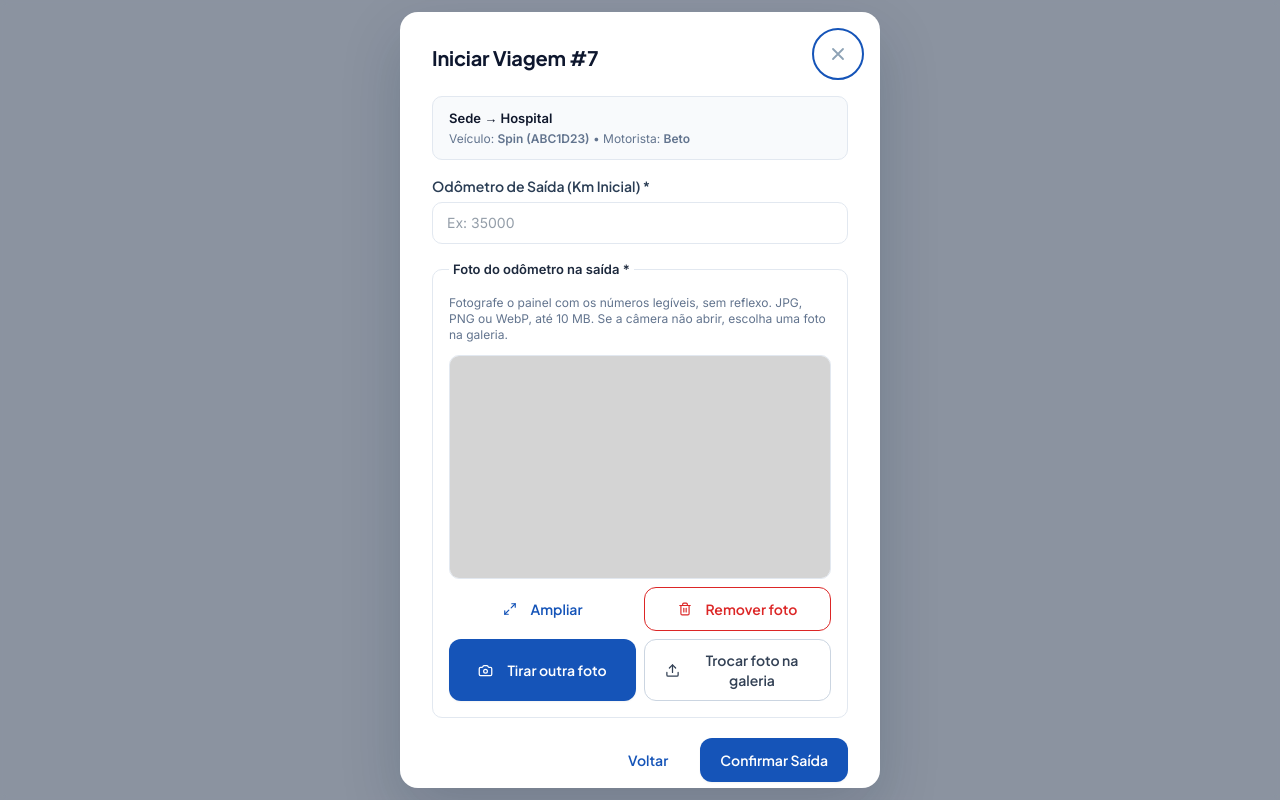
Test: ModalIniciarViagem com foto do odômetro (SCRUM-205/214) › evidência recusada pelo servidor: a próxima tentativa envia a foto de novo com outra chave
Earlier steps of the test are not shown.
Later steps or results of the test are not shown.
Type "35000" into the number field labelled "Odômetro de Saída (Km Inicial) *".
click(640, 222); type("35000")  # box [432,202,848,244]
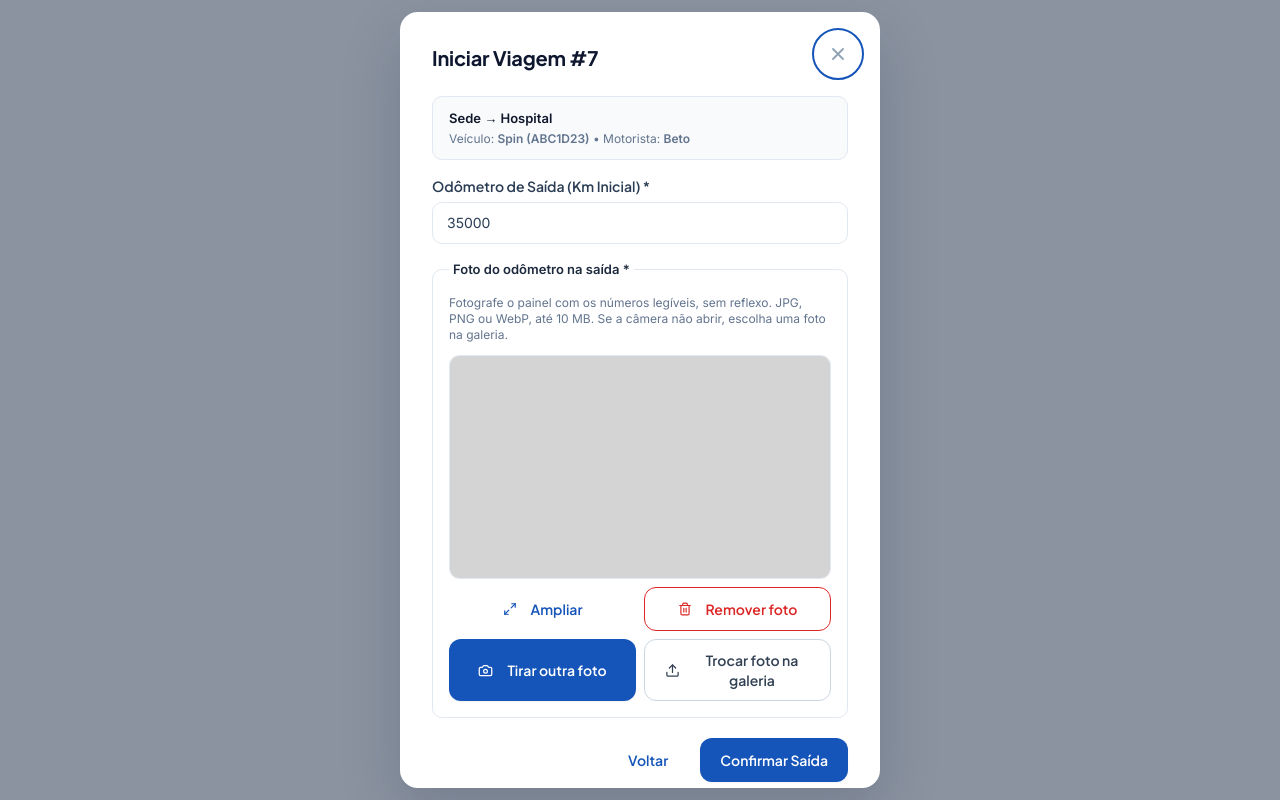
Click the button "Confirmar Saída".
click(774, 760)  # box [700,738,848,782]
(page scrolled)
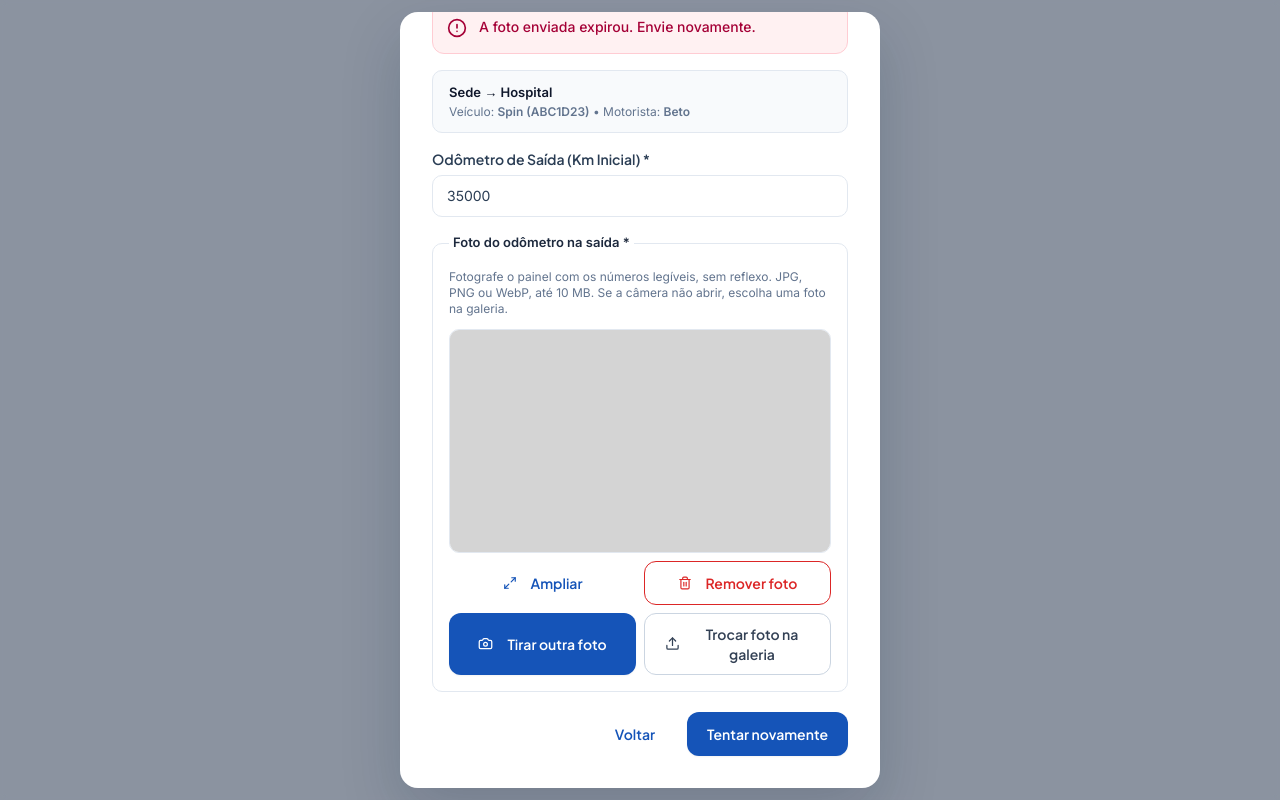
Expected: the text "A foto enviada expirou. Envie novamente." is shown, [479,18,756,35]
